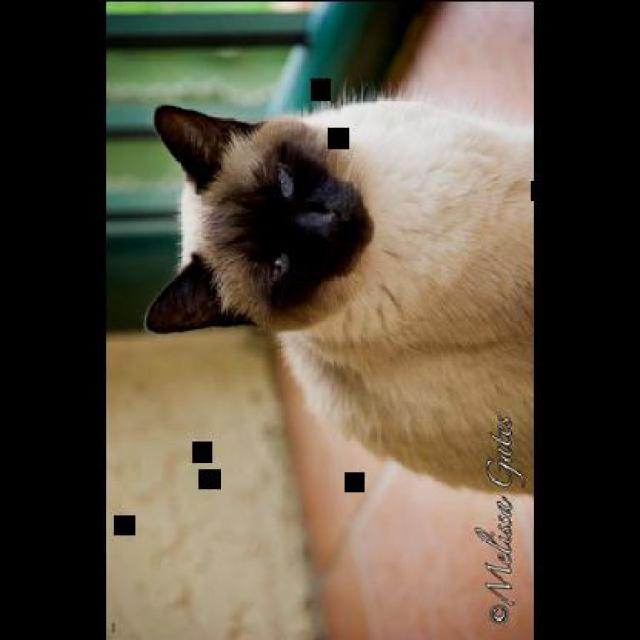unauthorized: (143, 81, 534, 497)
